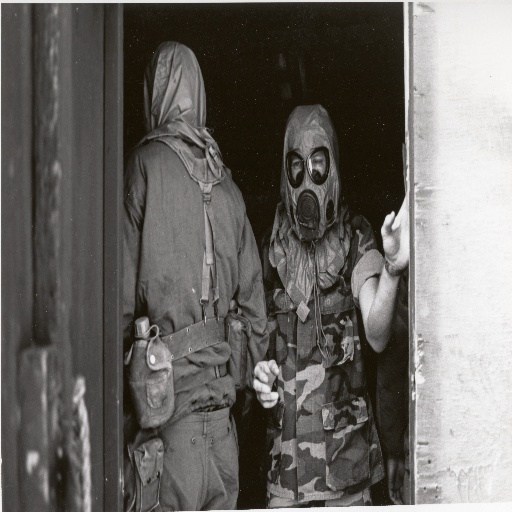hand: (384, 206, 414, 275), (252, 360, 279, 409)
